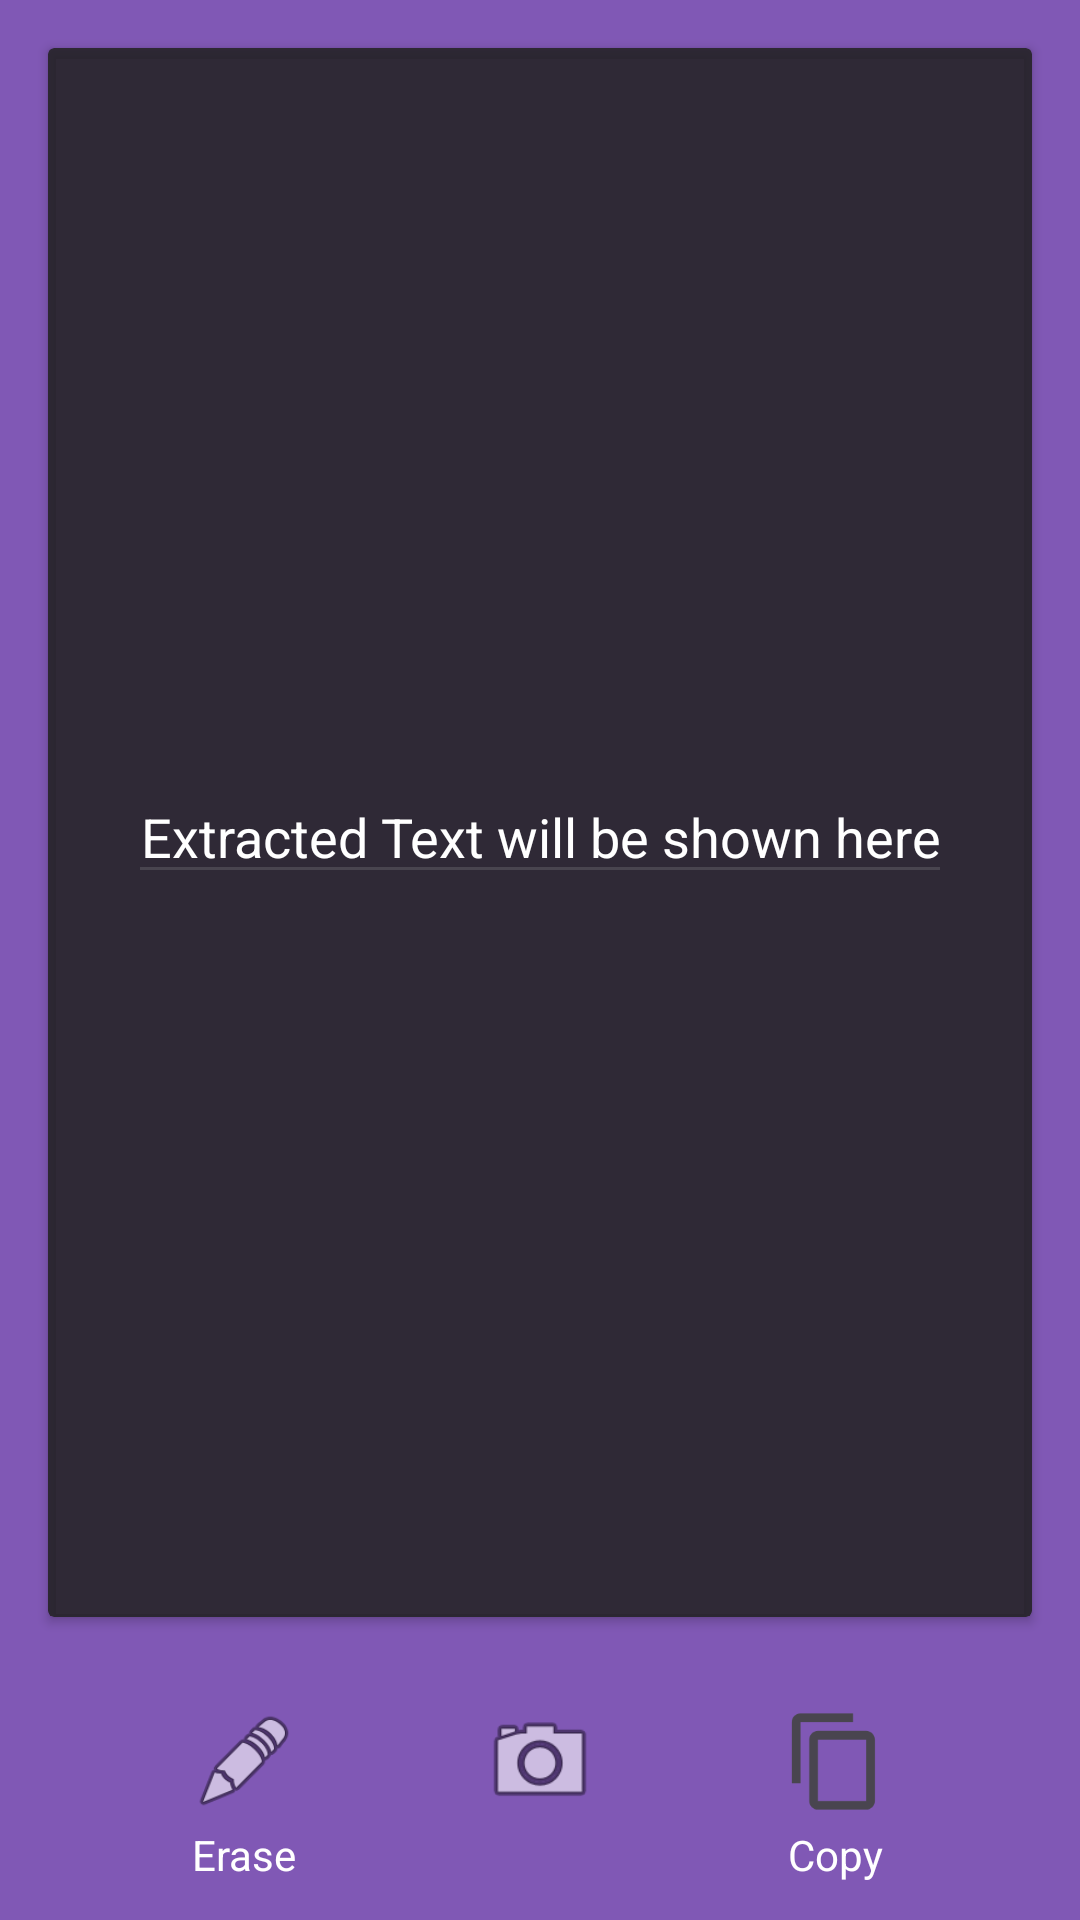

Icons on this 1080 x 1920 Android screen, each with its box as (x1, y1, x2, y2):
camera: (494, 1722, 586, 1796)
edit: (200, 1716, 288, 1805)
